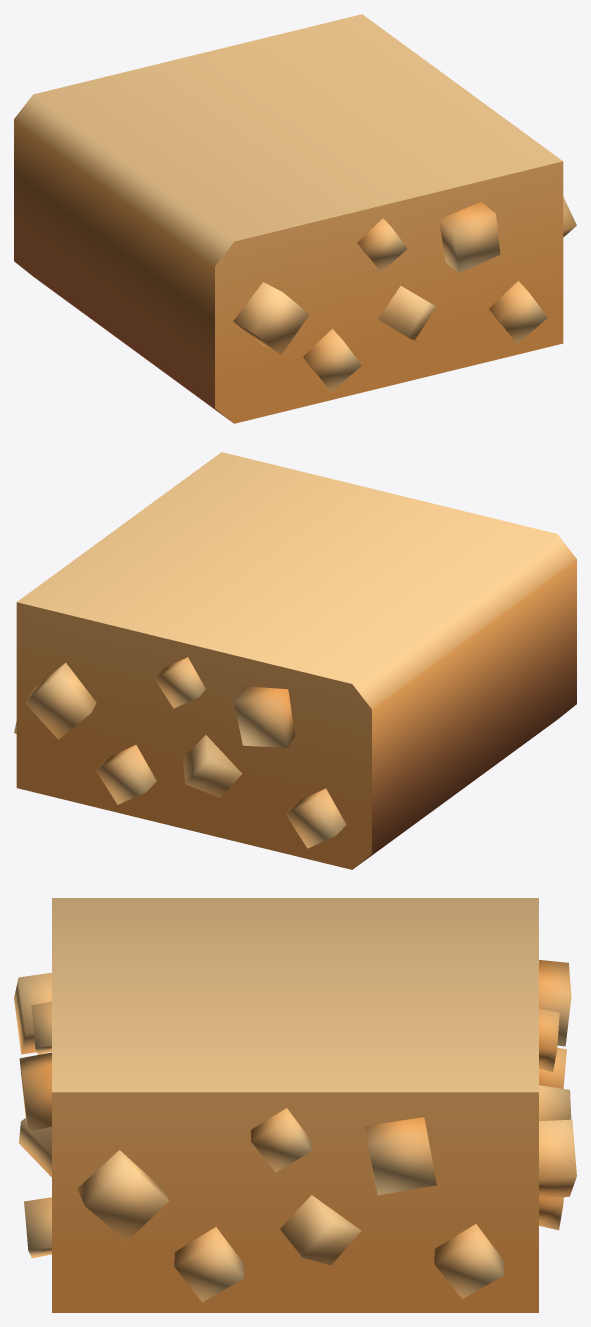
The model's file is m_Brownie03_Slice02.fbx.
3 renders of one model, top to bottom at view 1: azimuth 30°, elevation 25°; view 2: azimuth 150°, elevation 25°; view 3: azimuth 270°, elevation 25°, orthographic. The views are drawn at different scales.
Parts seen in each view (by area): view 1: m_Brownie03_Slice02; view 2: m_Brownie03_Slice02; view 3: m_Brownie03_Slice02.
Part boxes in pixels (x1=…): m_Brownie03_Slice02: x1=14, y1=14, x2=576, y2=423; m_Brownie03_Slice02: x1=14, y1=452, x2=576, y2=869; m_Brownie03_Slice02: x1=14, y1=898, x2=576, y2=1312.
Size of the model in its own units: 10.78 by 5 by 11.57.
